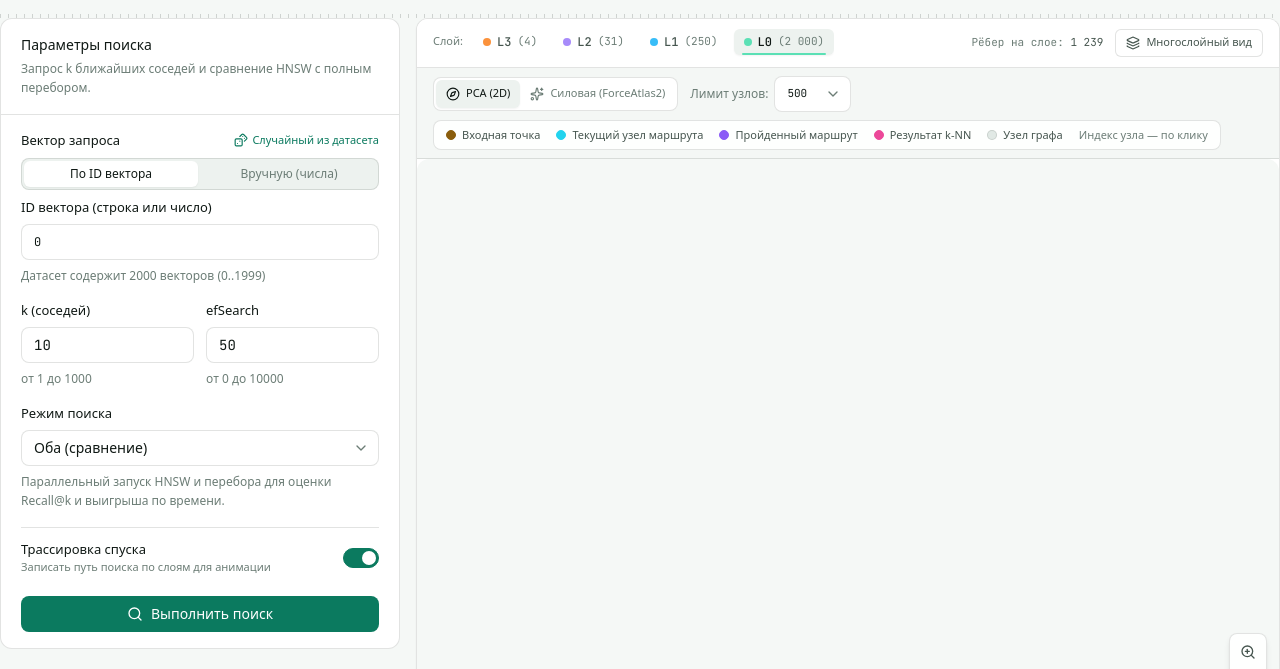
Test: SearchPage › shows a server error instead of silently dropping a failed search
What coordinates should you click on to do the following:
click the button "Выполнить поиск"
I would click on:
 (200, 614)
Its box is [21,596,379,632].
(page scrolled)
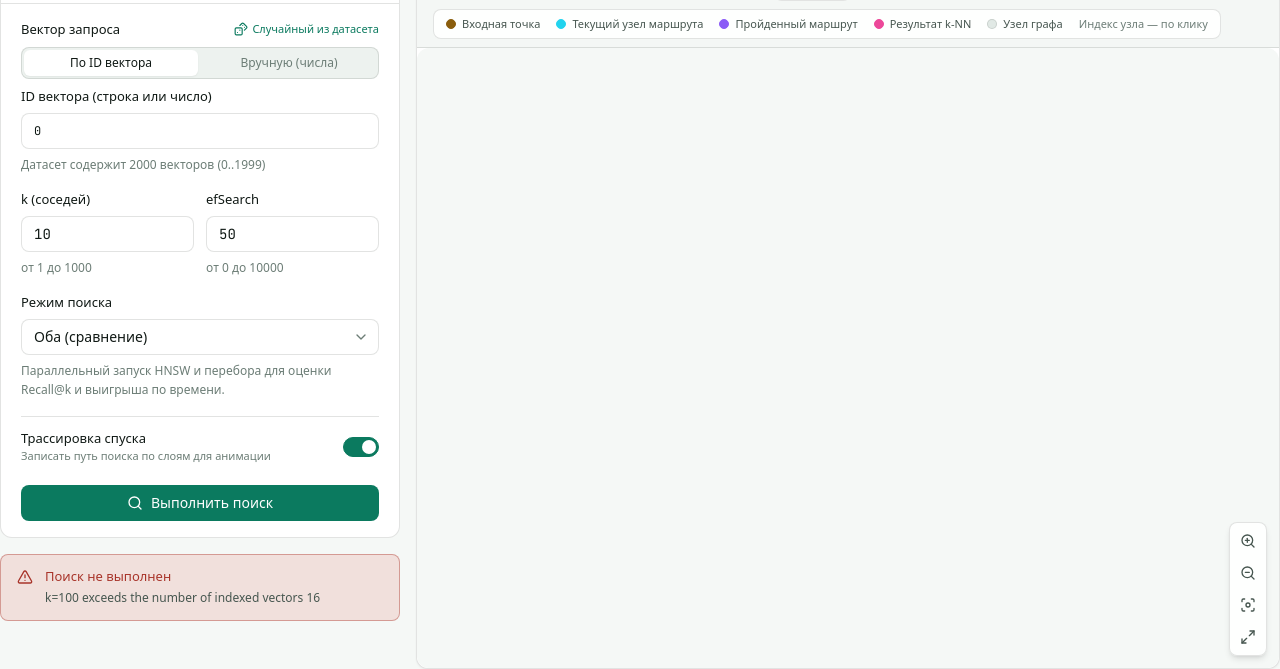
Result: the message shows "k=100 exceeds the number of indexed vectors 16" at [45,589,320,606]
